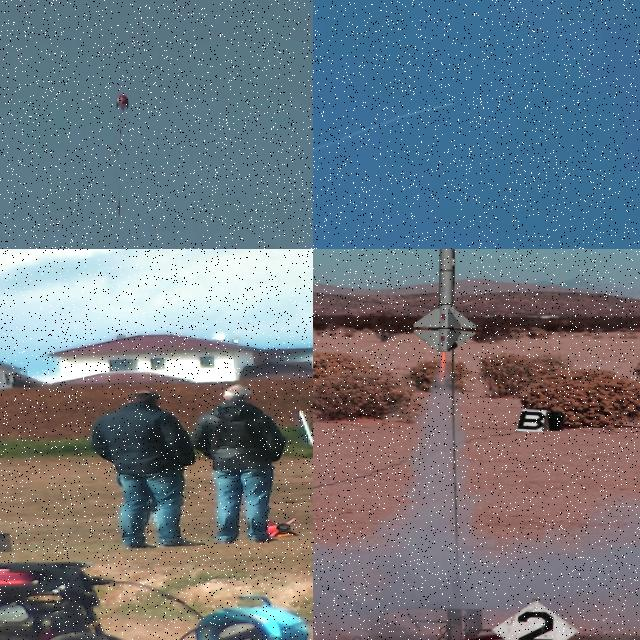Rocket: (411, 249, 479, 352), (296, 408, 313, 447), (452, 103, 454, 105)
